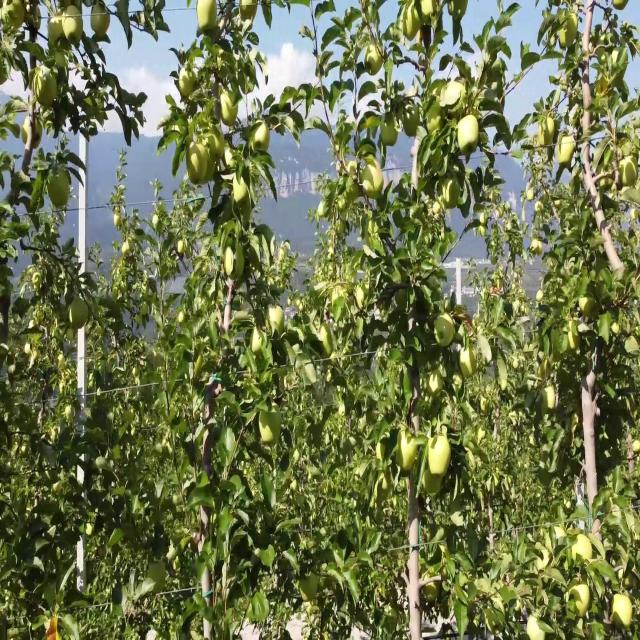apple: (395, 427, 418, 476), (34, 64, 58, 107), (428, 433, 451, 477), (186, 140, 209, 184), (361, 156, 384, 199), (458, 113, 479, 156), (259, 404, 281, 444), (48, 169, 69, 207), (224, 242, 245, 280), (62, 4, 82, 43), (90, 0, 110, 38), (569, 582, 590, 618), (485, 596, 505, 633), (612, 593, 632, 629), (434, 313, 455, 347), (1, 0, 25, 29), (220, 89, 238, 127), (402, 2, 420, 40), (559, 13, 578, 49), (364, 42, 384, 76), (196, 0, 218, 30), (69, 296, 89, 329), (69, 296, 89, 329), (459, 344, 478, 378), (452, 304, 474, 333), (205, 127, 224, 160), (380, 113, 398, 147), (402, 102, 420, 136), (421, 464, 441, 494), (619, 156, 638, 187), (556, 136, 575, 167), (571, 533, 592, 560), (374, 469, 391, 502), (442, 178, 460, 209), (251, 122, 270, 151), (268, 304, 285, 336), (179, 67, 196, 98), (559, 18, 576, 49), (611, 47, 629, 76), (426, 102, 442, 133), (538, 116, 555, 144), (232, 176, 249, 204), (48, 13, 64, 42), (538, 118, 554, 147), (526, 616, 545, 640), (426, 369, 442, 397), (540, 384, 556, 412), (579, 293, 596, 318), (45, 613, 60, 640), (345, 176, 360, 202), (239, 0, 258, 20), (449, 0, 468, 20), (565, 11, 578, 40), (568, 320, 580, 351), (421, 0, 436, 22), (136, 302, 148, 327), (204, 156, 215, 183), (108, 349, 119, 373), (434, 27, 448, 44), (452, 371, 462, 393), (338, 193, 349, 213), (530, 238, 542, 256), (375, 442, 386, 460), (611, 0, 628, 11), (611, 0, 628, 11), (538, 124, 546, 147), (114, 207, 122, 229), (65, 327, 76, 342), (526, 184, 535, 202), (140, 302, 149, 318), (630, 207, 640, 220), (88, 371, 95, 389), (178, 240, 185, 256), (479, 224, 486, 238), (536, 289, 544, 301)
